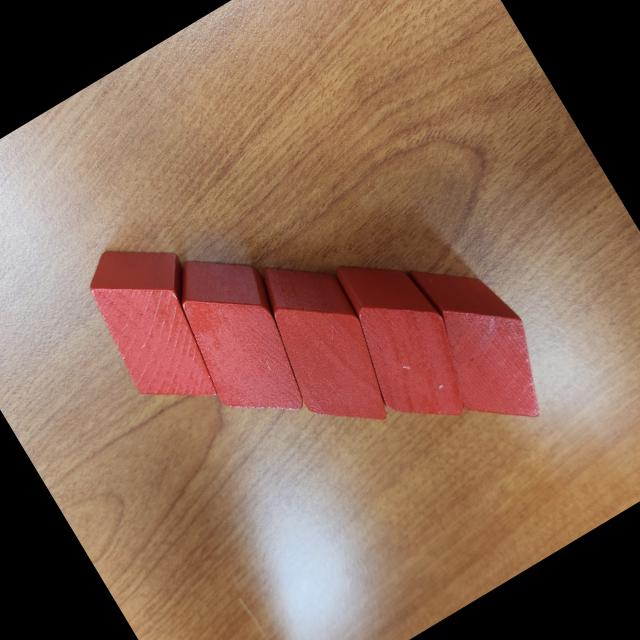red: (149, 231, 333, 444), (388, 234, 570, 448), (311, 233, 491, 447), (235, 240, 412, 452), (68, 219, 249, 426)
